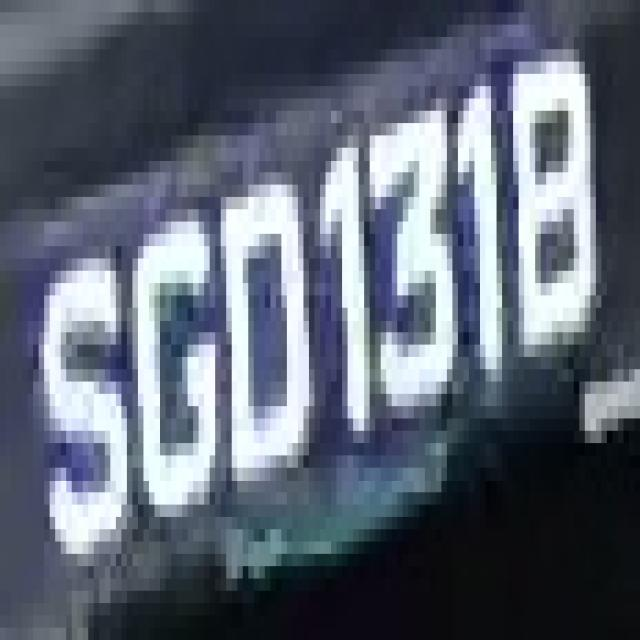1: (441, 62, 513, 430), (309, 160, 386, 480)
3: (358, 111, 474, 455)
B: (491, 24, 618, 382)
D: (210, 185, 320, 529)
G: (121, 173, 226, 542)
S: (33, 258, 133, 578)
